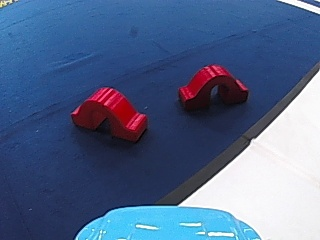bridge: (67, 82, 151, 145), (174, 61, 253, 112)
